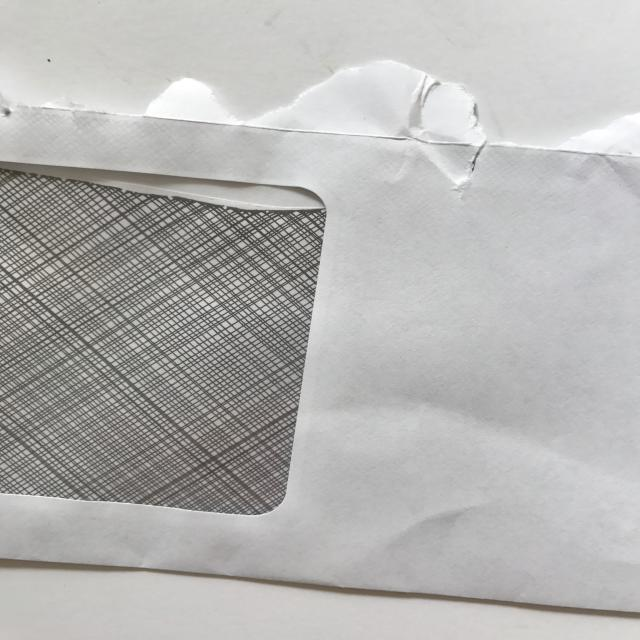paper: (1, 46, 640, 616)
